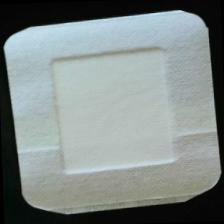Dressing: (2, 6, 224, 222)
